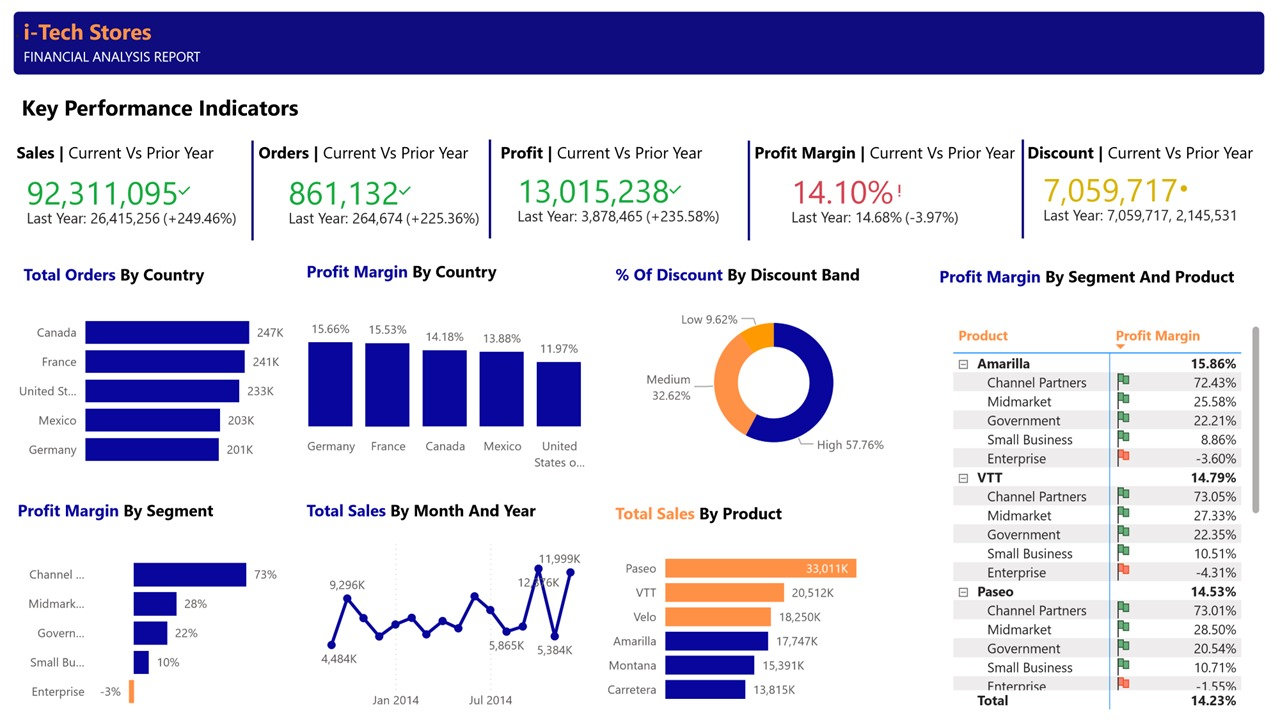

This screenshot's page, from the dashboard's own definition file:
{"tool":"powerbi","page":{"name":"Financial Dashboard","canvas":[1280,720],"ordinal":0},"visuals":[{"type":"shape","box":[933.9,315.9,312.8,398.3],"z":0},{"type":"shape","box":[12.9,11.3,1251.3,63],"z":1000},{"type":"shape","box":[12.9,87.3,1251.3,40.4],"z":2000},{"type":"shape","box":[12.9,135.8,1251.3,109.9],"z":3000},{"type":"shape","box":[10.7,535.6,277.7,183.1],"z":4000},{"type":"shape","box":[12.2,259.4,276.2,36.6],"z":5000},{"type":"shape","box":[12.2,497.5,276.2,32],"z":6000},{"type":"shape","box":[12.2,300.6,276.2,181.6],"z":7000},{"type":"shape","box":[300.6,535.6,296,184.6],"z":8000},{"type":"shape","box":[300.6,259.4,296,36.6],"z":9000},{"type":"shape","box":[300.6,497.5,296,32],"z":10000},{"type":"shape","box":[300.6,300.6,296,181.6],"z":11000},{"type":"shape","box":[610.4,535.6,299.1,178.5],"z":12000},{"type":"shape","box":[610.4,259.4,299.1,33.6],"z":13000},{"type":"shape","box":[610.4,497.5,299.1,32],"z":14000},{"type":"shape","box":[610.4,300.6,299.1,177],"z":15000},{"type":"shape","box":[933.8,254.8,329.2,49.1],"z":16000},{"type":"textbox","box":[0,11.3,219.9,63],"z":17000},{"type":"textbox","box":[17.8,42,213.4,32.3],"z":18000},{"type":"textbox","box":[16.2,87.3,305.5,40.4],"z":19000},{"type":"kpi","fields":{"Indicator":["Analysis.Total Sales"],"TrendLine":["Date Table.Year"],"Goal":["Analysis.Total Sales LY"]},"box":[13.1,155.3,258.4,88.3],"z":20000},{"type":"textbox","box":[11.3,135.8,305.5,32.3],"z":21000},{"type":"shape","box":[231.6,140.3,40.8,99.5],"z":22000},{"type":"kpi","fields":{"TrendLine":["Date Table.Year"],"Indicator":["Analysis.Total Orders"],"Goal":["Analysis.Total Orders LY"]},"box":[274.7,155.3,232.2,88.3],"z":23000},{"type":"kpi","fields":{"TrendLine":["Date Table.Year"],"Indicator":["Analysis.Profit"],"Goal":["Analysis.Profit LY"]},"box":[503.6,153.7,240.4,88.3],"z":24000},{"type":"kpi","fields":{"TrendLine":["Date Table.Year"],"Indicator":["Analysis.Profit Margin"],"Goal":["Analysis.Profit Margin LY"]},"box":[778.4,153.7,230.6,89.9],"z":25000},{"type":"kpi","fields":{"TrendLine":["Date Table.Year"],"Indicator":["Analysis.Discount Offered"],"Goal":["Analysis.Discount Offered LY","Analysis.Discount Offered"]},"box":[1030.2,148.8,245.3,96.5],"z":26000},{"type":"textbox","box":[253.3,135.8,228.9,32],"z":27000},{"type":"textbox","box":[495.5,135.7,228.9,31.1],"z":28000},{"type":"textbox","box":[748.9,135.7,284.5,31.1],"z":29000},{"type":"textbox","box":[1022,135.7,243.6,32.7],"z":30000},{"type":"shape","box":[482.8,138.6,13,99.5],"z":31000},{"type":"shape","box":[742.1,140.3,13,99.5],"z":32000},{"type":"shape","box":[1016.1,138.6,13,99.5],"z":33000},{"type":"clusteredBarChart","fields":{"Category":["financials.Country"],"Y":["Analysis.Total Orders"]},"box":[0,296,288.4,181.6],"z":34000},{"type":"textbox","box":[18,258.4,235.5,36],"z":35000},{"type":"textbox","box":[300.6,254.8,296,39.7],"z":36000},{"type":"columnChart","fields":{"Category":["financials.Country"],"Y":["Analysis.Profit Margin"]},"box":[271.6,303.7,338.8,174],"z":37000},{"type":"donutChart","fields":{"Category":["financials.Discount Band"],"Y":["Analysis.Discount Offered"]},"box":[622.6,299.1,300.6,166.3],"z":38000},{"type":"textbox","box":[610.4,257.9,299.1,38.1],"z":39000},{"type":"textbox","box":[12.2,494.4,236.5,35.1],"z":40000},{"type":"clusteredBarChart","fields":{"Category":["financials.Segment"],"Y":["Analysis.Profit Margin"]},"box":[10.7,538.7,277.7,181.6],"z":41000},{"type":"clusteredBarChart","fields":{"Category":["financials.Segment"],"Y":["Analysis.Profit Margin"]},"box":[10.7,538.4,277.7,181.6],"z":42000},{"type":"lineChart","fields":{"Y":["Analysis.Total Sales"],"Category":["Date Table.Date.Variation.Date Hierarchy.Year","Date Table.Date.Variation.Date Hierarchy.Month"]},"box":[302.3,528.6,294.4,189.9],"z":43000},{"type":"textbox","box":[300.7,493.8,262.7,34.8],"z":44000},{"type":"clusteredBarChart","fields":{"Category":["financials.Product"],"Y":["Analysis.Total Sales"]},"box":[596.7,535.6,312.8,178.5],"z":45000},{"type":"textbox","box":[610.4,497.5,262.5,35.1],"z":46000},{"type":"pivotTable","fields":{"Rows":["financials.Product","financials.Segment"],"Values":["Analysis.Profit Margin"]},"box":[933.9,318.9,332.7,395.2],"z":47000},{"type":"textbox","box":[933.8,259.6,329.2,38],"z":47001}]}

Visuals, with their boxes in screenshot pixels (x1, y1, x2, y2), scaled from the page's 1280x720 canvas onto the 1280x720 screenshot:
shape: 934 316 1247 714
shape: 13 11 1264 74
shape: 13 87 1264 128
shape: 13 136 1264 246
shape: 11 536 288 719
shape: 12 259 288 296
shape: 12 498 288 530
shape: 12 301 288 482
shape: 301 536 597 719
shape: 301 259 597 296
shape: 301 498 597 530
shape: 301 301 597 482
shape: 610 536 910 714
shape: 610 259 910 293
shape: 610 498 910 530
shape: 610 301 910 478
shape: 934 255 1263 304
textbox: 0 11 220 74
textbox: 18 42 231 74
textbox: 16 87 322 128
kpi - Analysis.Total Sales x Date Table.Year: 13 155 272 244
textbox: 11 136 317 168
shape: 232 140 272 240
kpi - Date Table.Year x Analysis.Total Orders: 275 155 507 244
kpi - Date Table.Year x Analysis.Profit: 504 154 744 242
kpi - Date Table.Year x Analysis.Profit Margin: 778 154 1009 244
kpi - Date Table.Year x Analysis.Discount Offered: 1030 149 1276 245
textbox: 253 136 482 168
textbox: 496 136 724 167
textbox: 749 136 1033 167
textbox: 1022 136 1266 168
shape: 483 139 496 238
shape: 742 140 755 240
shape: 1016 139 1029 238
clusteredBarChart - financials.Country x Analysis.Total Orders: 0 296 288 478
textbox: 18 258 254 294
textbox: 301 255 597 294
columnChart - financials.Country x Analysis.Profit Margin: 272 304 610 478
donutChart - financials.Discount Band x Analysis.Discount Offered: 623 299 923 465
textbox: 610 258 910 296
textbox: 12 494 249 530
clusteredBarChart - financials.Segment x Analysis.Profit Margin: 11 539 288 719
clusteredBarChart - financials.Segment x Analysis.Profit Margin: 11 538 288 719
lineChart - Analysis.Total Sales x Date Table.Date.Variation.Date Hierarchy.Year: 302 529 597 718
textbox: 301 494 563 529
clusteredBarChart - financials.Product x Analysis.Total Sales: 597 536 910 714
textbox: 610 498 873 533
pivotTable - financials.Product x financials.Segment: 934 319 1267 714
textbox: 934 260 1263 298
